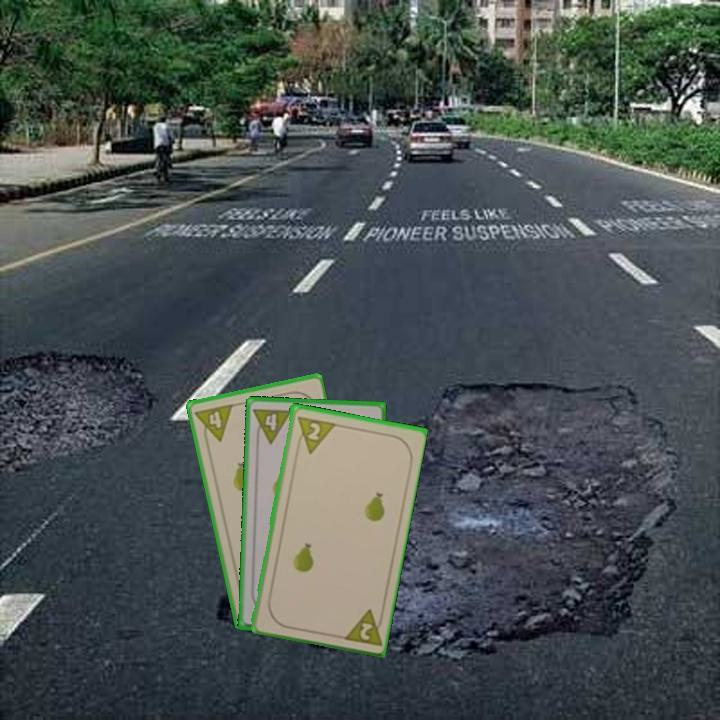2p: (338, 605, 386, 649), (292, 412, 336, 456)
4p: (191, 400, 235, 447), (250, 404, 294, 446)
